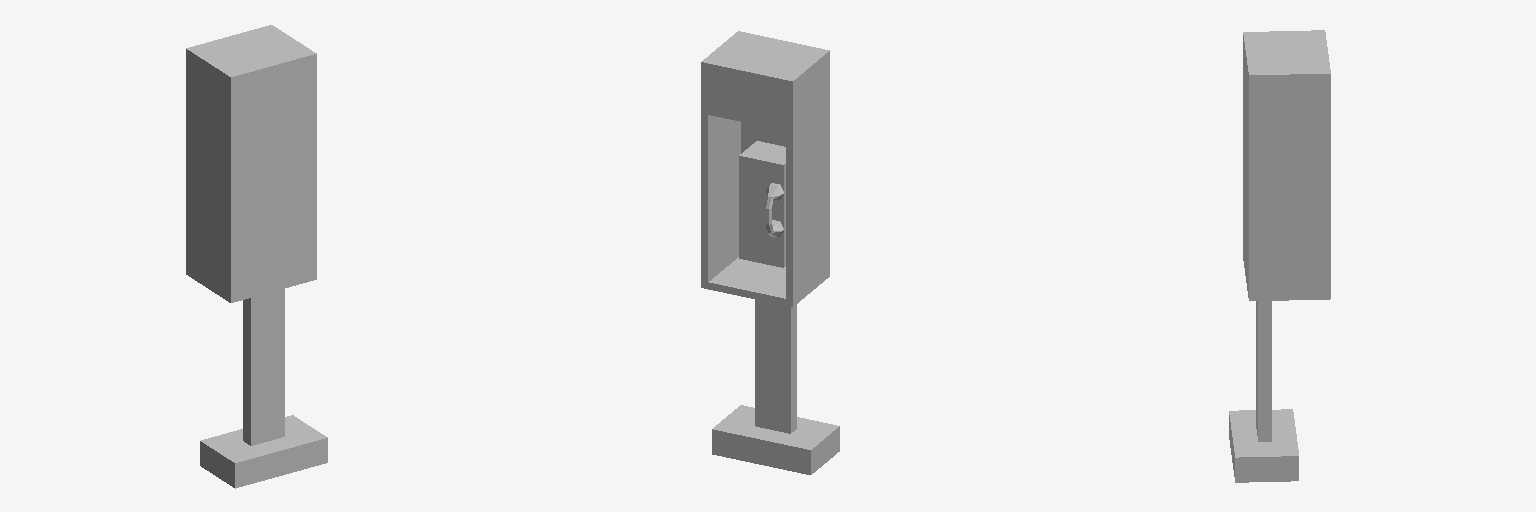
Rendered from phone.obj.
3 renders of one model, left to right at view 1: azimuth 30°, elevation 25°; view 2: azimuth 150°, elevation 25°; view 3: azimuth 270°, elevation 25°, orthographic.
Visible parts, largest first — view 1: phone_null_; view 2: phone_null_; view 3: phone_null_.
Boxes of the visible parts, x1,y1,x2,y2 form: phone_null_: [186, 25, 327, 488]; phone_null_: [701, 31, 839, 474]; phone_null_: [1229, 30, 1330, 482].
Bounding box in the file's own units: 4.5 × 17.56 × 4.01.